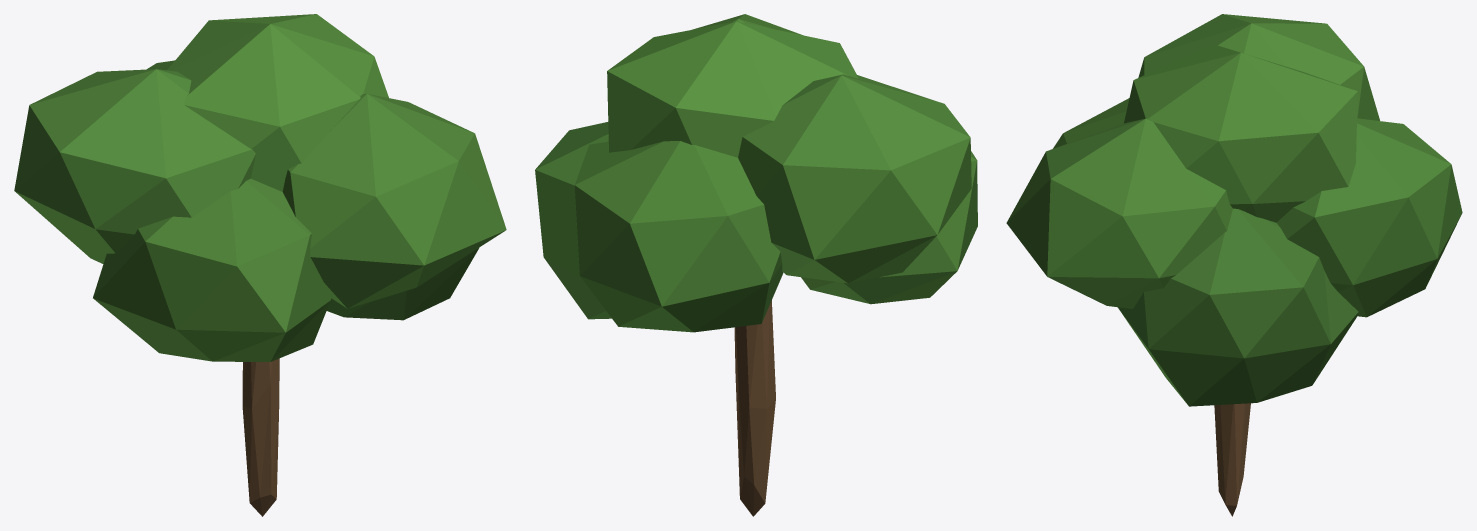
File: oak.glb
3 views of the same model, side by side, from view 1: azimuth 30°, elevation 25°; view 2: azimuth 150°, elevation 25°; view 3: azimuth 270°, elevation 25° (orthographic). The views are drawn at different scales.
Size of the model in its own units: 9.45 by 10.67 by 9.38.
1 material, 1 textured.
